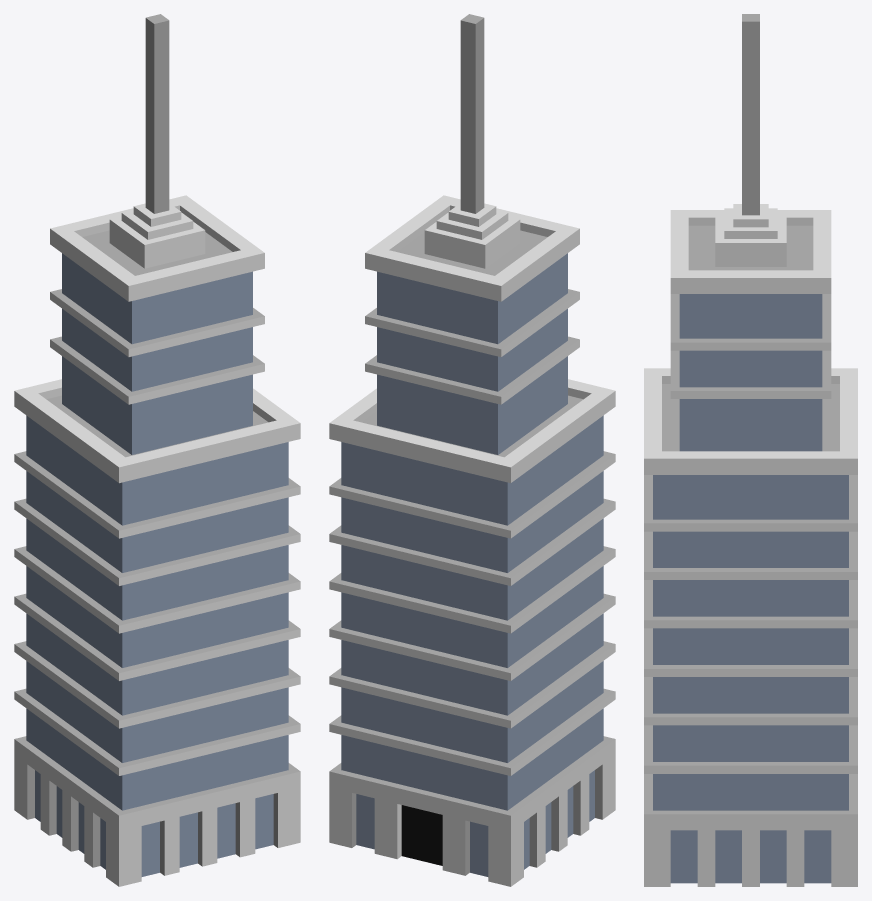
File: Building_3.fbx
3 views of the same model, side by side, from view 1: azimuth 30°, elevation 25°; view 2: azimuth 150°, elevation 25°; view 3: azimuth 270°, elevation 25° (orthographic). The views are drawn at different scales.
Parts seen in each view (by area): view 1: Building_3; view 2: Building_3; view 3: Building_3.
Boxes of the visible parts, <box> form: Building_3: <box>14,14,300,886</box>; Building_3: <box>329,14,615,886</box>; Building_3: <box>644,14,857,886</box>.
Size of the model in its own units: 6 by 25.5 by 6.
